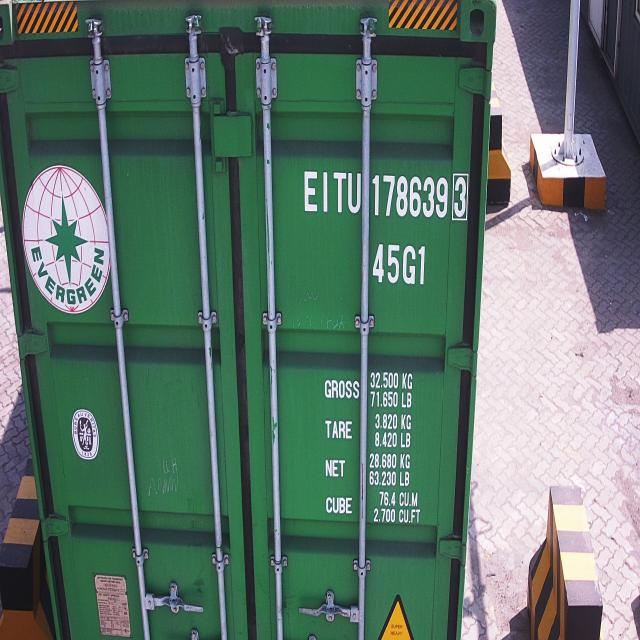container-number: (304, 168, 471, 224)
